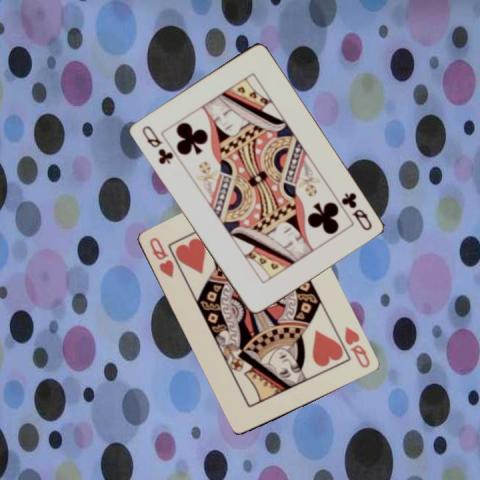Qc: (138, 122, 174, 166), (337, 189, 373, 232)
Qh: (342, 324, 372, 370), (147, 235, 176, 279)
